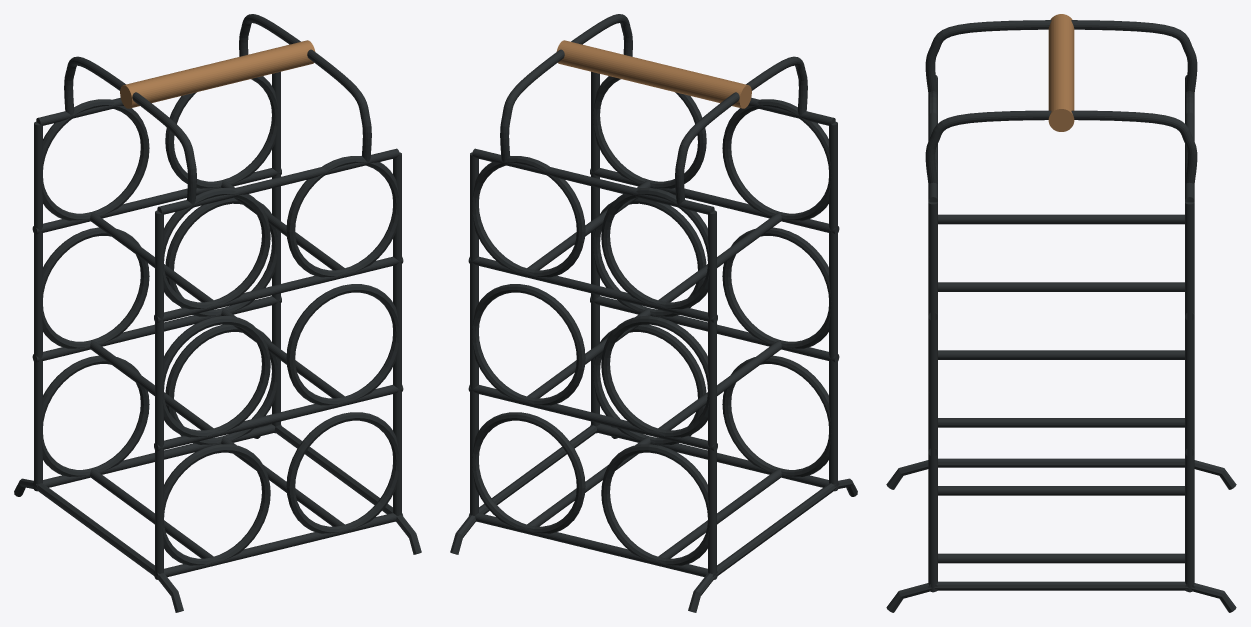
The model's file is full.glb.
3 views of the same model, side by side, from view 1: azimuth 30°, elevation 25°; view 2: azimuth 150°, elevation 25°; view 3: azimuth 270°, elevation 25° (orthographic). The views are drawn at different scales.
Parts seen in each view (by area): view 1: Wooden carry grip, Outer vertical upright -0.136-0.12, Outer vertical upright -0.1360.12, Bottle hoop 0.075-0.120.23, Bottle hoop 0.075-0.120.09, Bottle hoop -0.075-0.120.09, Bottle hoop 0.075-0.120.37, Bottle hoop -0.075-0.120.23, Bottle hoop -0.075-0.120.37, Bottle hoop -0.0750.120.37, Outer vertical upright 0.136-0.12, Bottle hoop -0.0750.120.23 (+23 smaller); view 2: Wooden carry grip, Outer vertical upright -0.1360.12, Outer vertical upright -0.136-0.12, Bottle hoop 0.0750.120.23, Bottle hoop 0.0750.120.09, Bottle hoop -0.0750.120.09, Bottle hoop 0.0750.120.37, Bottle hoop -0.0750.120.23, Bottle hoop -0.0750.120.37, Bottle hoop -0.075-0.120.37, Outer vertical upright 0.1360.12, Bottle hoop -0.075-0.120.23 (+23 smaller); view 3: Outer vertical upright 0.136-0.12, Outer vertical upright 0.1360.12, Raised handle upright 1, Raised handle upright -1, Bowed foot bar 1, Bowed foot bar -1, Wooden carry grip, Channel connecting rail -0.0750.37, Channel connecting rail 0.0750.09, Channel connecting rail -0.0750.09, Channel connecting rail -0.0750.23, Channel connecting rail 0.0750.23 (+1 smaller).
Part boxes in pixels (<box>): Wooden carry grip: <box>120,40,315,108</box>; Outer vertical upright -0.136-0.12: <box>155,210,163,579</box>; Outer vertical upright -0.1360.12: <box>34,122,42,491</box>; Bottle hoop 0.075-0.120.23: <box>286,284,399,405</box>; Bottle hoop 0.075-0.120.09: <box>286,412,399,533</box>; Bottle hoop -0.075-0.120.09: <box>158,444,270,565</box>; Bottle hoop 0.075-0.120.37: <box>286,156,399,277</box>; Bottle hoop -0.075-0.120.23: <box>158,316,270,437</box>; Bottle hoop -0.075-0.120.37: <box>158,188,270,309</box>; Bottle hoop -0.0750.120.37: <box>40,99,149,220</box>; Outer vertical upright 0.136-0.12: <box>393,152,401,521</box>; Bottle hoop -0.0750.120.23: <box>40,227,149,348</box>; Wooden carry grip: <box>556,40,751,108</box>; Outer vertical upright -0.1360.12: <box>708,210,716,579</box>; Outer vertical upright -0.136-0.12: <box>829,122,837,491</box>; Bottle hoop 0.0750.120.23: <box>472,284,585,405</box>; Bottle hoop 0.0750.120.09: <box>472,412,585,533</box>; Bottle hoop -0.0750.120.09: <box>601,444,713,565</box>; Bottle hoop 0.0750.120.37: <box>472,156,585,277</box>; Bottle hoop -0.0750.120.23: <box>601,316,713,437</box>; Bottle hoop -0.0750.120.37: <box>601,188,713,309</box>; Bottle hoop -0.075-0.120.37: <box>722,99,831,220</box>; Outer vertical upright 0.1360.12: <box>470,152,478,521</box>; Bottle hoop -0.075-0.120.23: <box>722,227,831,348</box>; Outer vertical upright 0.136-0.12: <box>928,202,937,591</box>; Outer vertical upright 0.1360.12: <box>1185,202,1194,591</box>; Raised handle upright 1: <box>925,110,1197,184</box>; Raised handle upright -1: <box>925,20,1197,93</box>; Bowed foot bar 1: <box>886,581,1236,612</box>; Bowed foot bar -1: <box>886,458,1236,489</box>; Wooden carry grip: <box>1048,14,1074,131</box>; Channel connecting rail -0.0750.37: <box>938,214,1184,224</box>; Channel connecting rail 0.0750.09: <box>938,553,1184,563</box>; Channel connecting rail -0.0750.09: <box>938,486,1184,495</box>; Channel connecting rail -0.0750.23: <box>938,350,1184,359</box>; Channel connecting rail 0.0750.23: <box>938,418,1184,427</box>.
Bounding box in the file's own units: 0.281 × 0.5049 × 0.3276.
